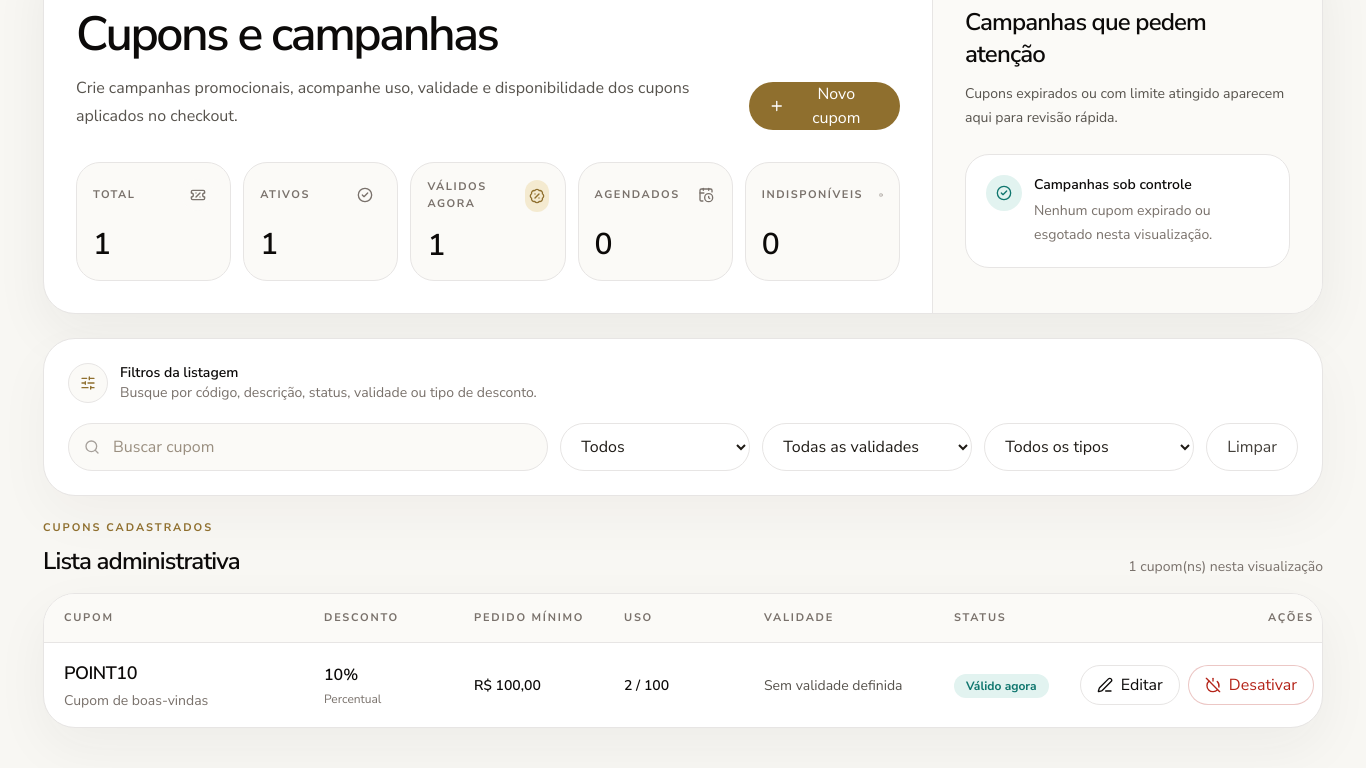
it: AdminCouponsPage › abre confirmação de ativação/desativação
(page scrolled)
expect the text "POINT10" is shown: met, box [64, 662, 137, 686]
Click the button "Desativar": (1251, 686) [1188, 666, 1314, 706]
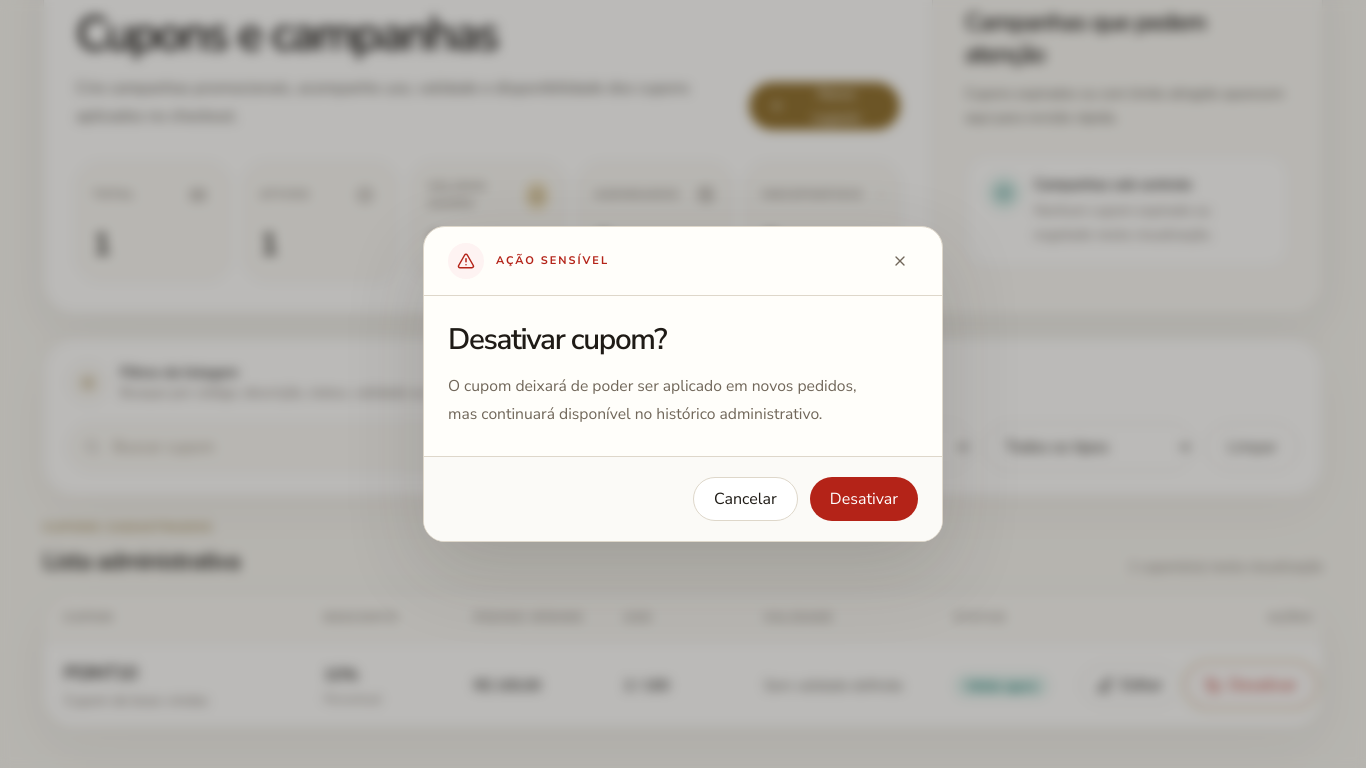
expect the dialog is shown: met, box [423, 226, 943, 542]
